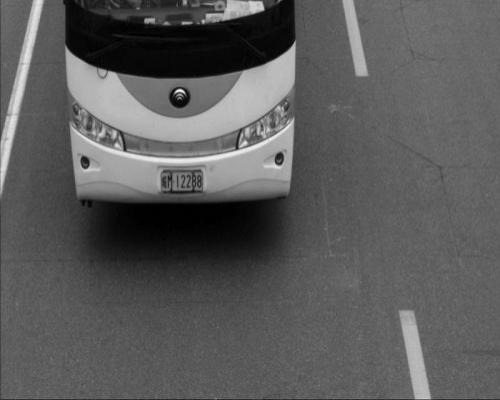Carplate: (157, 164, 209, 198)
